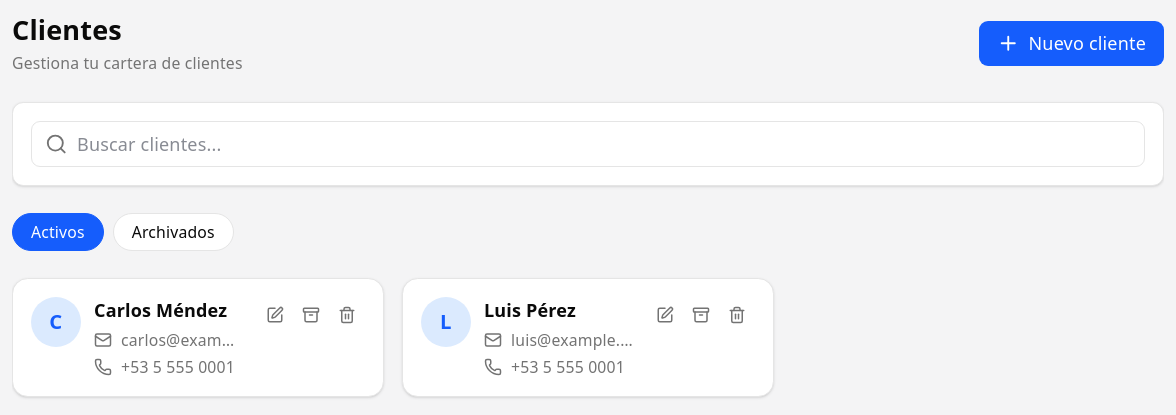
Scenario: Clientes › la búsqueda filtra por nombre o correo
Expected: the heading "Carlos Méndez" is shown, [94,297,244,324]
Step 1. Type "luis@" into the field with placeholder "Buscar clientes..." → [588, 144], box [31,121,1145,167]
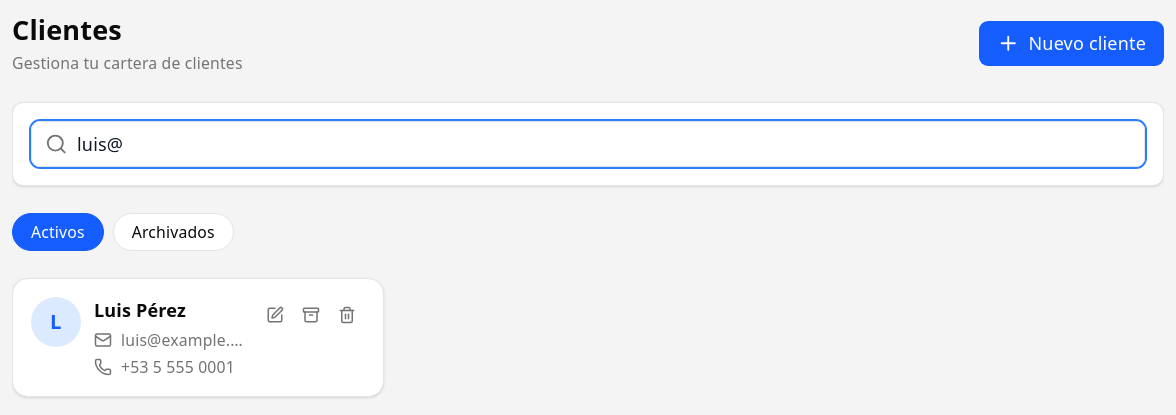
Expected: the heading "Luis Pérez" is shown, [94,298,186,322]
Now the heading "Carlos Méndez" is gone
